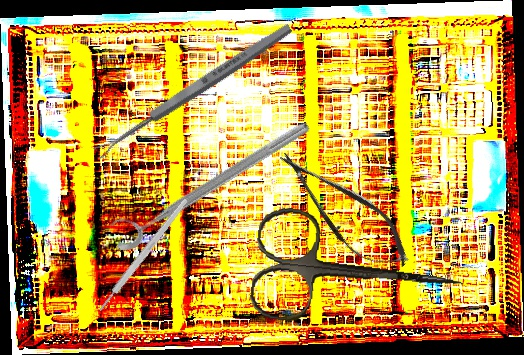Fixation Ring: (102, 105, 315, 256)
Iris Scissors: (247, 204, 471, 342)
Micro Scissor: (264, 135, 422, 286)
Scalpel Handle: (96, 197, 190, 313)
Surgical Spoon: (91, 20, 295, 161)
